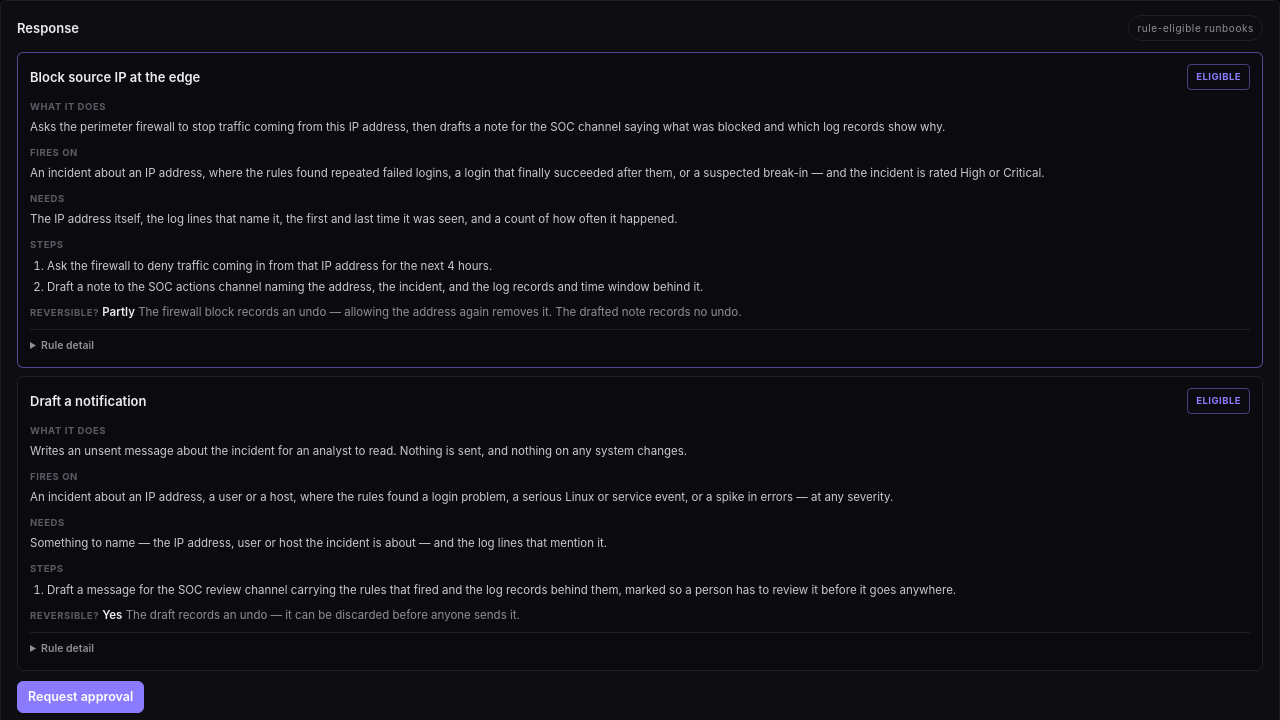
Test case: Incidents Response panel — C4-F1 › a 409 on Request approval flips that runbook to ineligible with the engine's missing[], VERBATIM
Click the button with test id "request-approval": (81, 697) [17, 681, 144, 713]
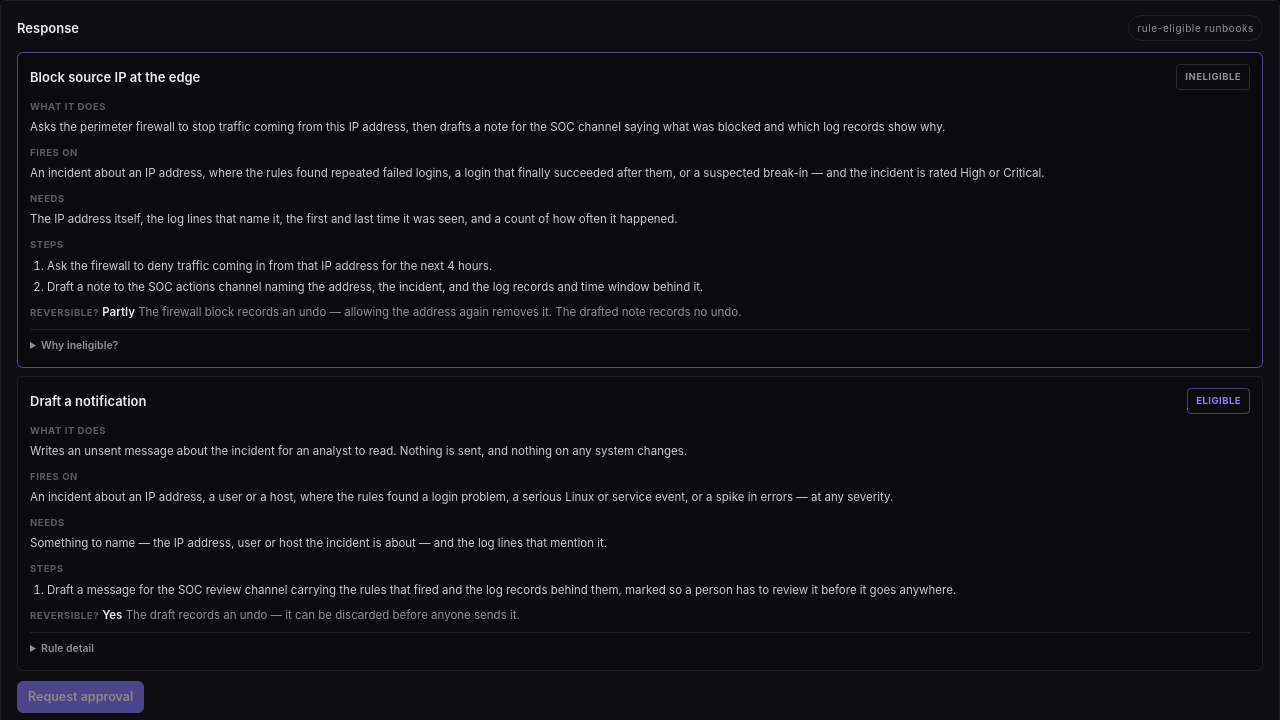
Expected: the text "INELIGIBLE" is shown, [1176, 64, 1250, 90]
